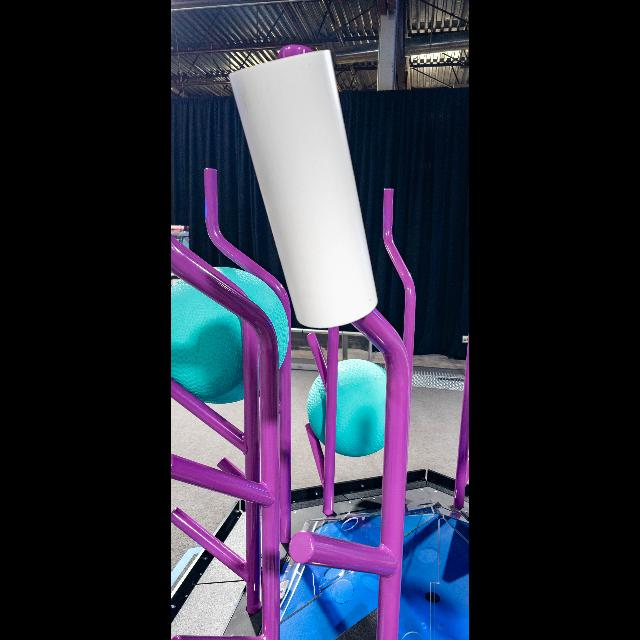ALGAE: (171, 268, 289, 404), (309, 359, 386, 457)
CORAL: (231, 50, 379, 328)
